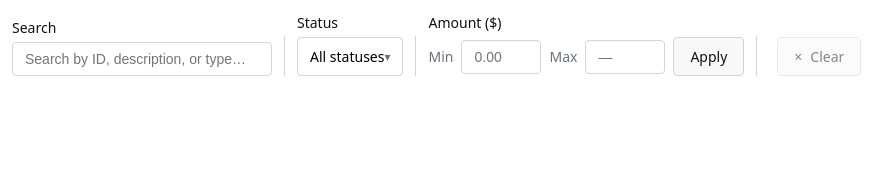
Test: FilterBar › Clear button is enabled when an amount input is filled
The width and height of the screenshot is (878, 172).
In the number field named "Minimum amount": [502, 56] box [462, 40, 542, 74], type "10"
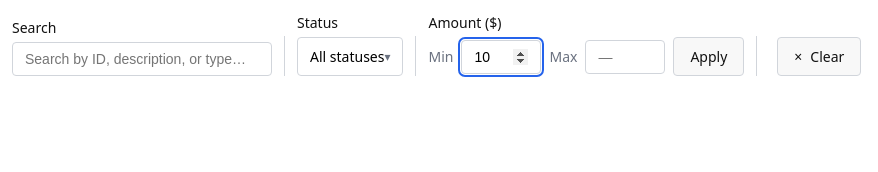
Expected: the button with aria-label "clear all filters" is enabled, [777, 37, 861, 76]
